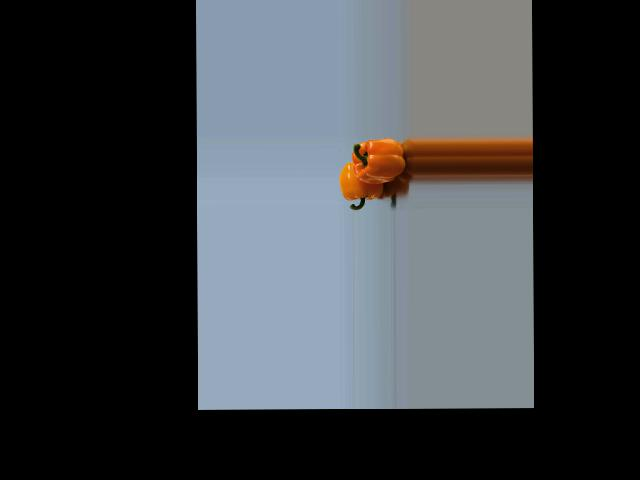bell_pepper: (339, 160, 391, 209)
